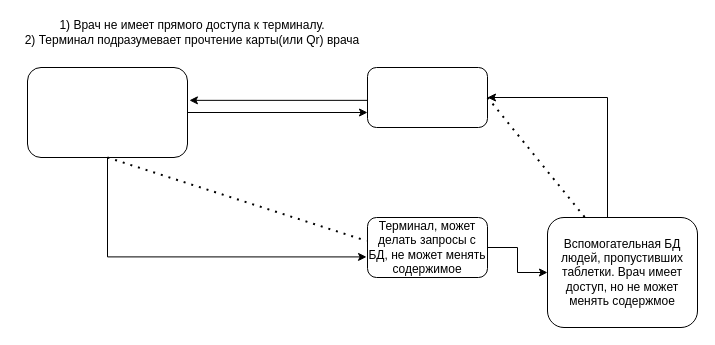
Some shapes in this 715 by 345 pixel diagram are drawn without their labels. The shapes that lost their labels are listed below. From the top down, each one's box as (x1, y1, x2, y2) in pixels, then its label:
(26, 66, 188, 158): Главная БД, имеет доступ и терминал, и ЛК врача
(366, 66, 488, 128): ЛК врача, имеет доступ только врач
